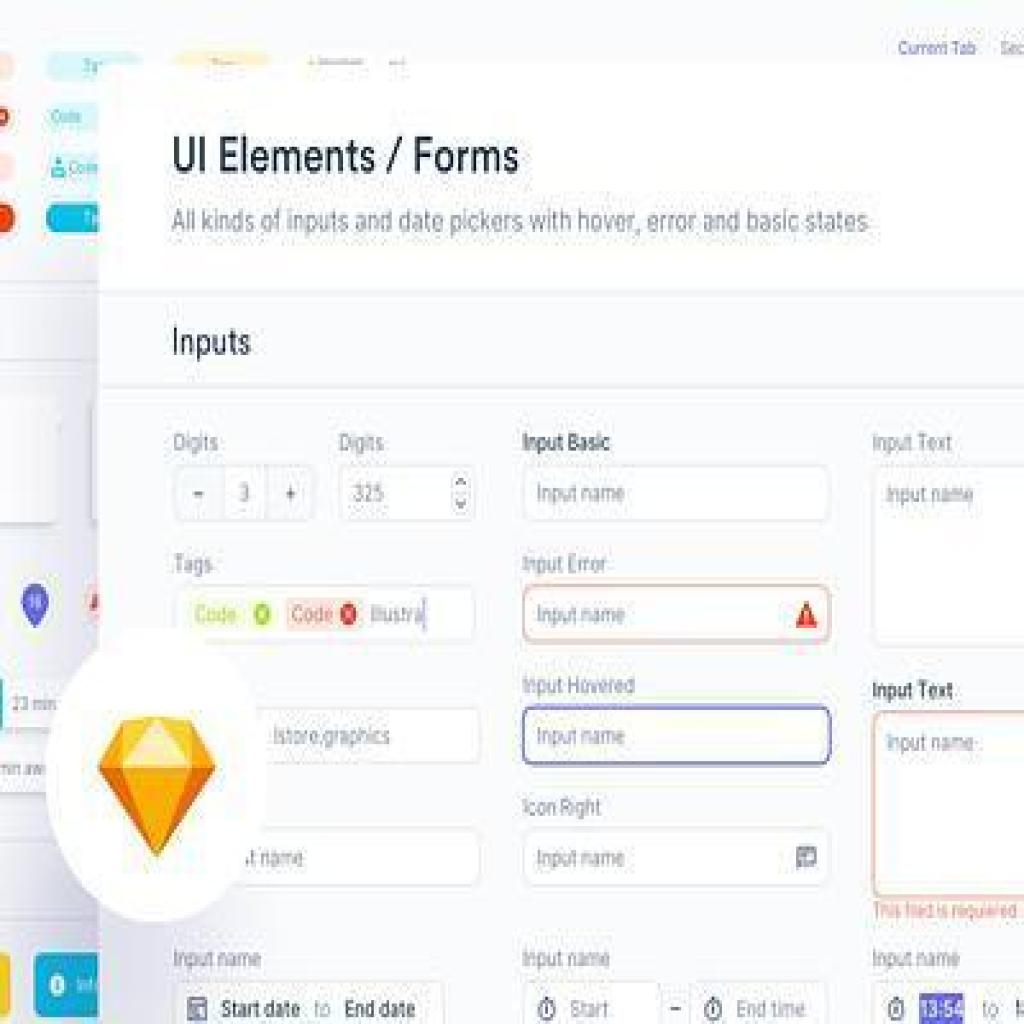input: (522, 587, 832, 645), (522, 464, 830, 522), (522, 706, 830, 764), (525, 833, 829, 884), (686, 979, 832, 1024), (520, 983, 666, 1024)
label: (172, 942, 266, 973), (870, 423, 958, 454), (868, 673, 957, 703), (520, 942, 614, 969), (517, 549, 607, 577), (520, 676, 640, 696), (517, 430, 617, 451), (517, 792, 602, 816), (332, 427, 386, 454), (174, 430, 225, 457), (172, 549, 220, 577)
